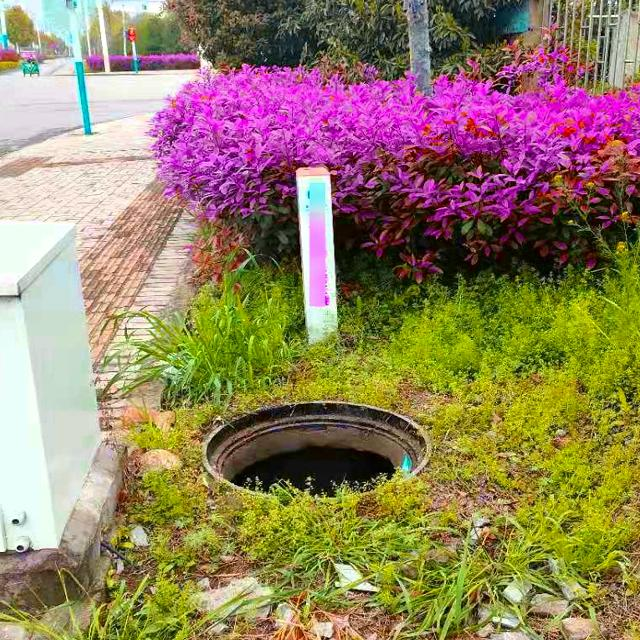lose: (190, 387, 443, 496)
